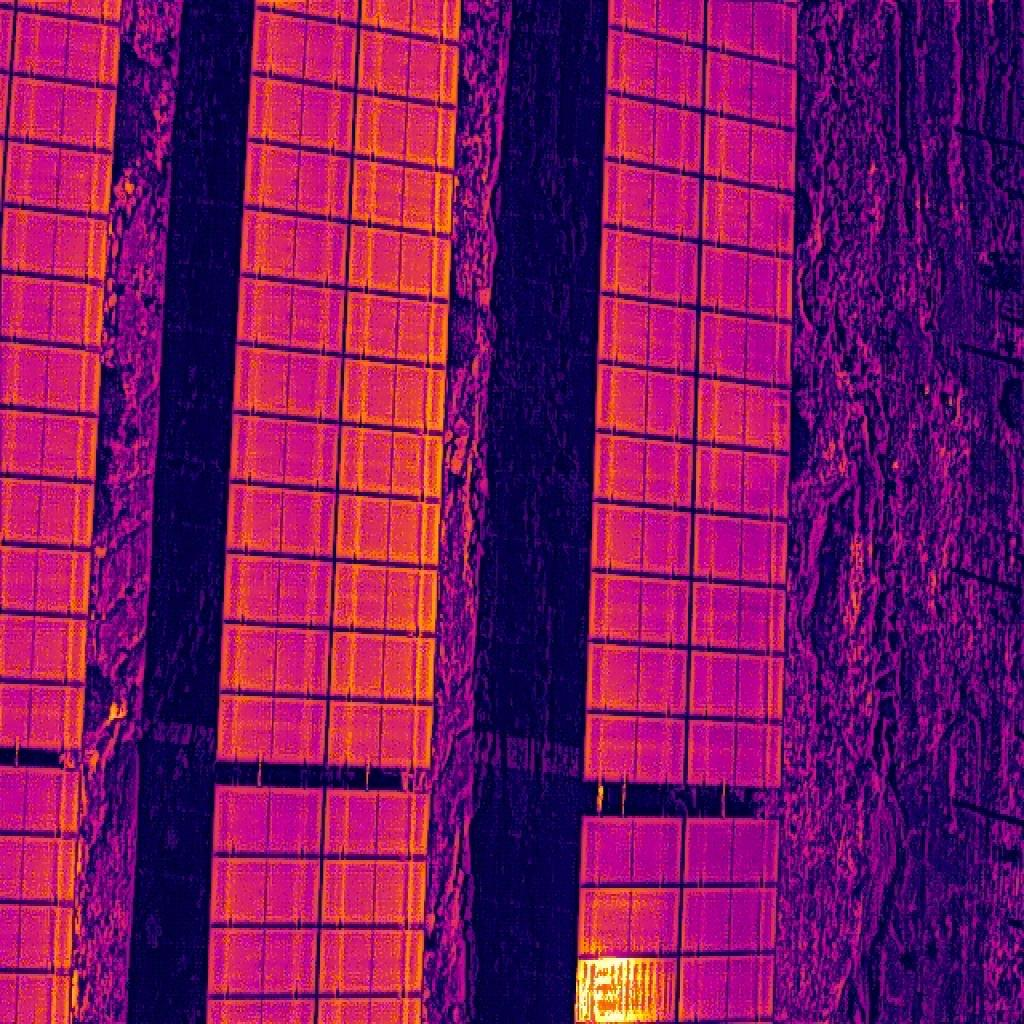panel: (227, 481, 339, 563), (344, 291, 448, 367), (584, 643, 689, 718), (577, 957, 680, 1022)
